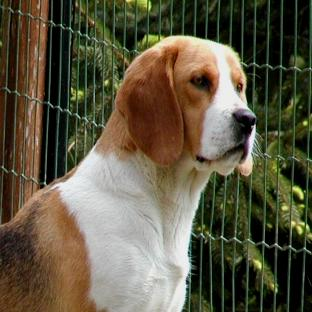Animal: (0, 36, 256, 311)
